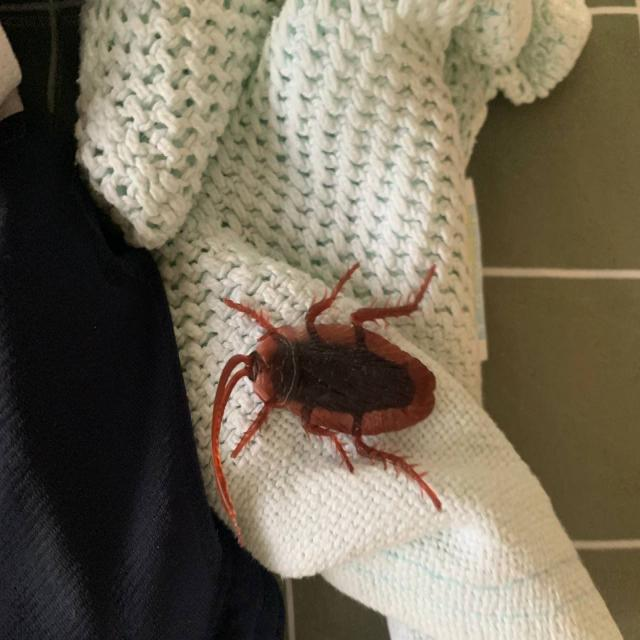Cockroach: (198, 251, 446, 523)
